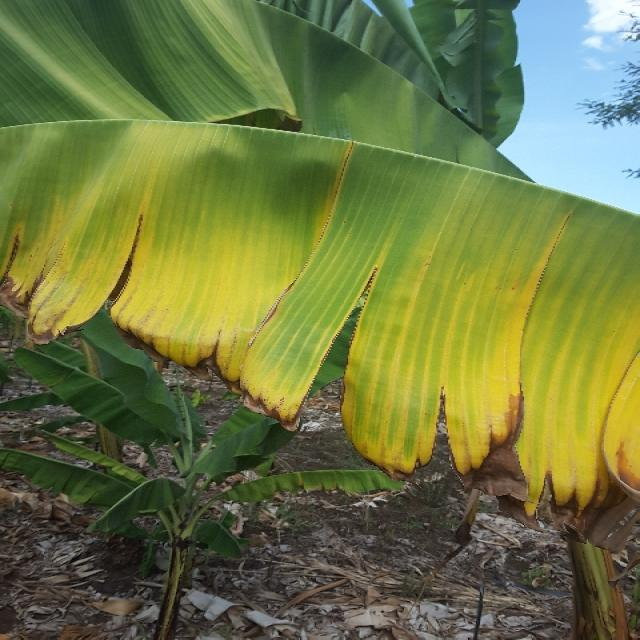Cordana: (0, 108, 640, 557)
